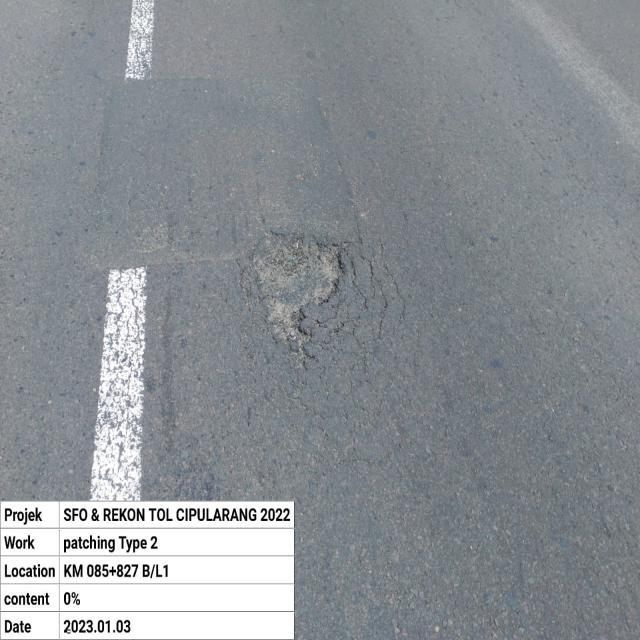Buraco: (246, 227, 357, 374)
